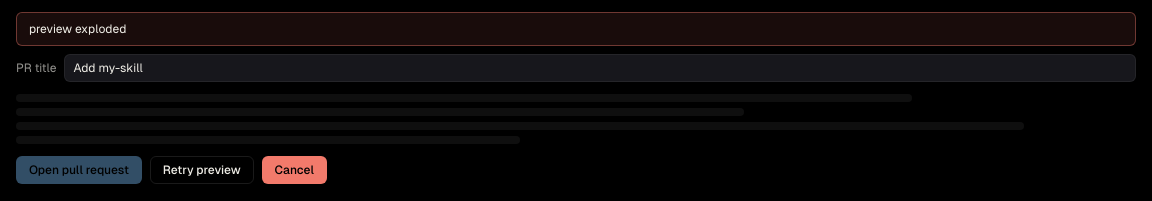
Scenario: SharePushDialog › a failed preview surfaces the error and Retry refetches it in place
Expected: the message "preview exploded" is shown, x1=16 y1=12 x2=1136 y2=46
Expected: the button "Open pull request" is disabled, x1=16 y1=156 x2=142 y2=184
What coordinates should you click on to do the following:
click the button "Retry preview"
I would click on:
 (202, 170)
Its box is x1=150 y1=156 x2=254 y2=184.
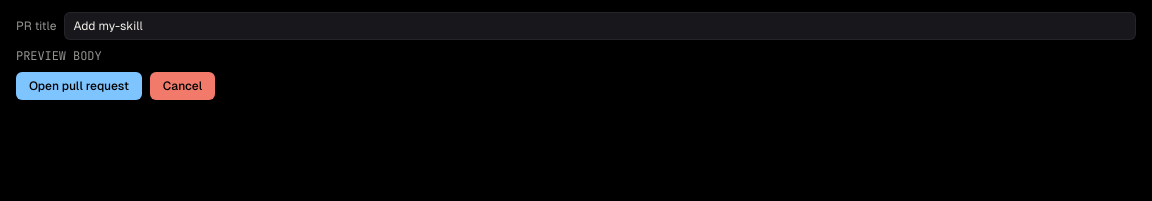
Result: the text "PREVIEW BODY" is shown at x1=16 y1=48 x2=102 y2=64
Result: the message "preview exploded" is gone
Result: the button "Open pull request" is enabled at x1=16 y1=72 x2=142 y2=100
